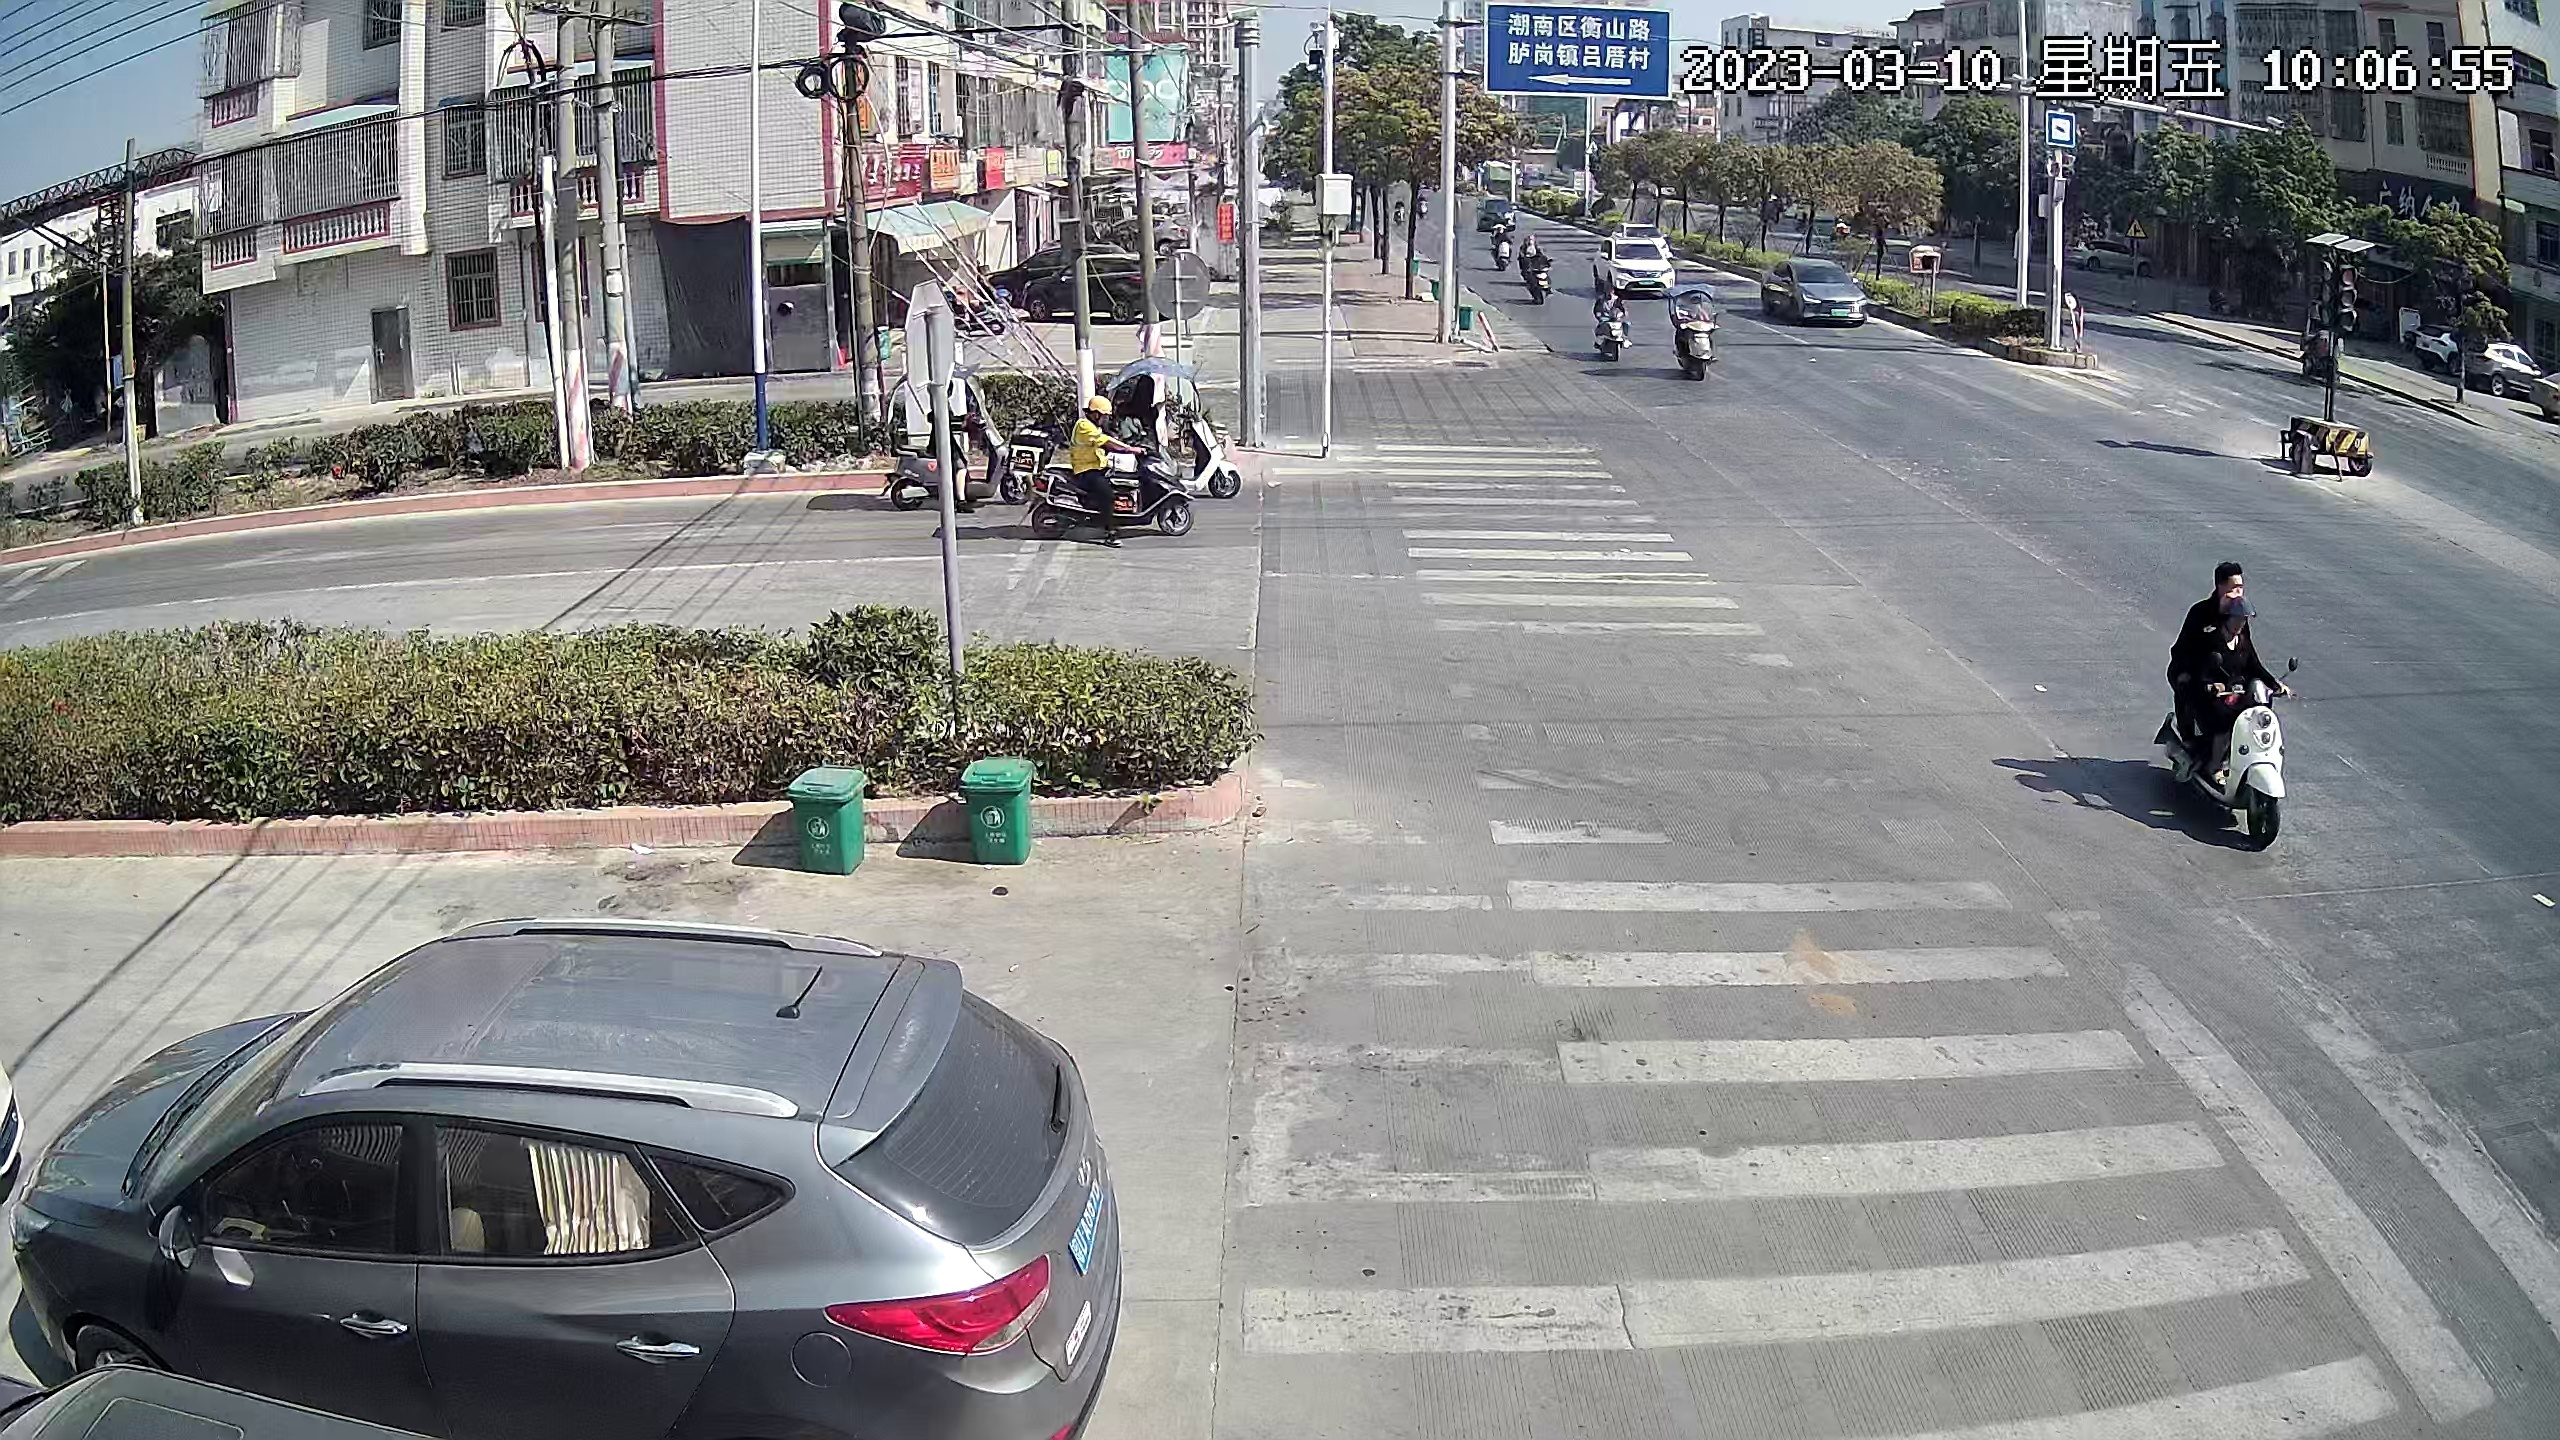head: (2185, 557, 2258, 602)
motorcycle: (2152, 530, 2310, 877), (1048, 395, 1187, 544), (879, 362, 1009, 507), (1115, 355, 1235, 473), (1665, 275, 1723, 380), (1583, 284, 1635, 374), (1518, 234, 1552, 305), (1480, 214, 1509, 279)
person: (1074, 388, 1134, 537), (2217, 597, 2268, 748)
sedan: (1018, 239, 1164, 335), (1765, 253, 1863, 334), (2465, 324, 2542, 407), (1604, 234, 1667, 302), (1617, 215, 1659, 252)
suv: (74, 925, 1132, 1435)
